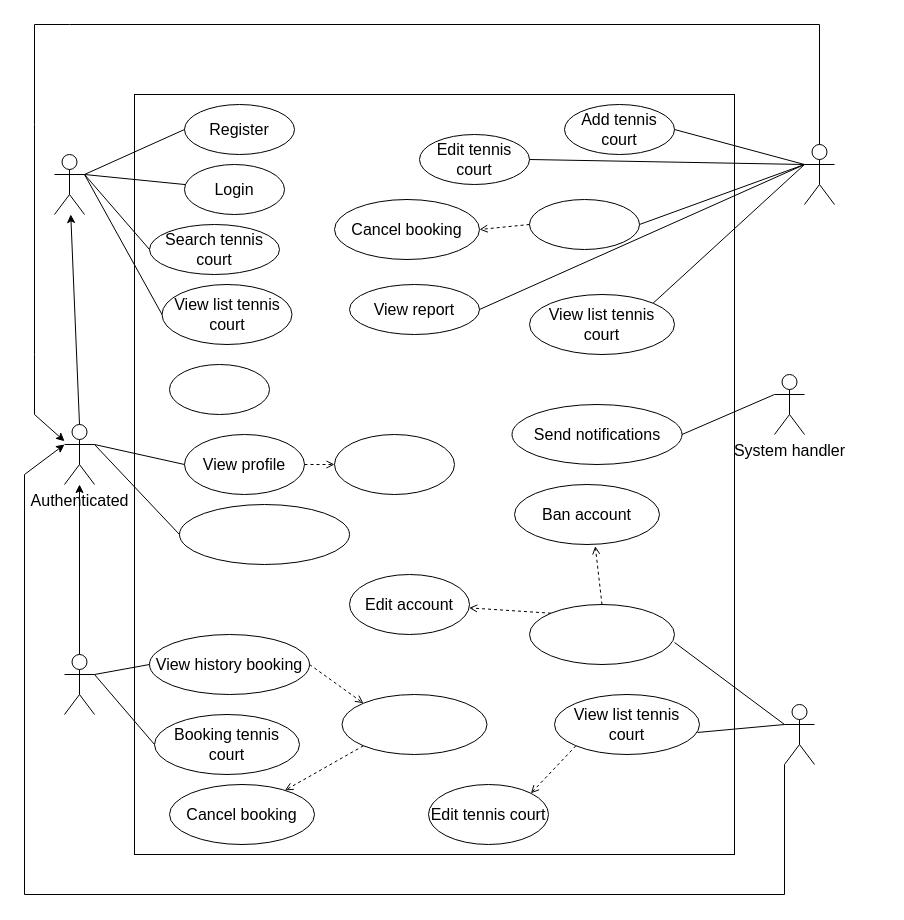
This 904x920 diagram has some shape labels left out. The centre of each missing label's shape, as x and y in pixels:
Admin: point (799, 734)
Customer: point (79, 684)
Edit profile: point (394, 464)
Guest: point (69, 184)
Logout: point (219, 389)
Tennis court owner: point (819, 174)
View booking detail: point (414, 724)
View list booking: point (584, 224)
View list user: point (601, 634)
View notifications: point (264, 534)
